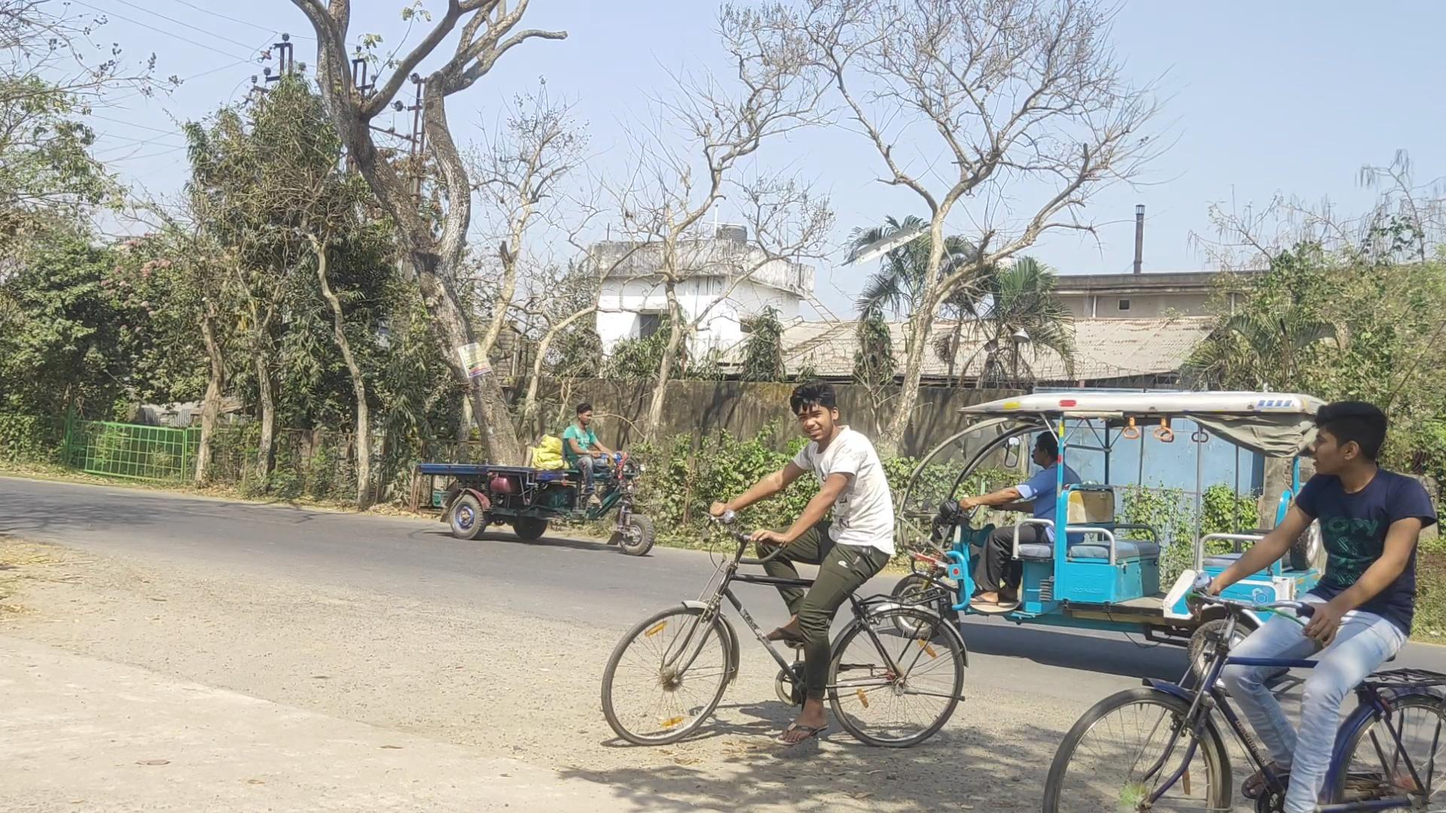Auto: (890, 390, 1331, 699)
bike: (1042, 401, 1446, 813), (601, 380, 970, 749)
